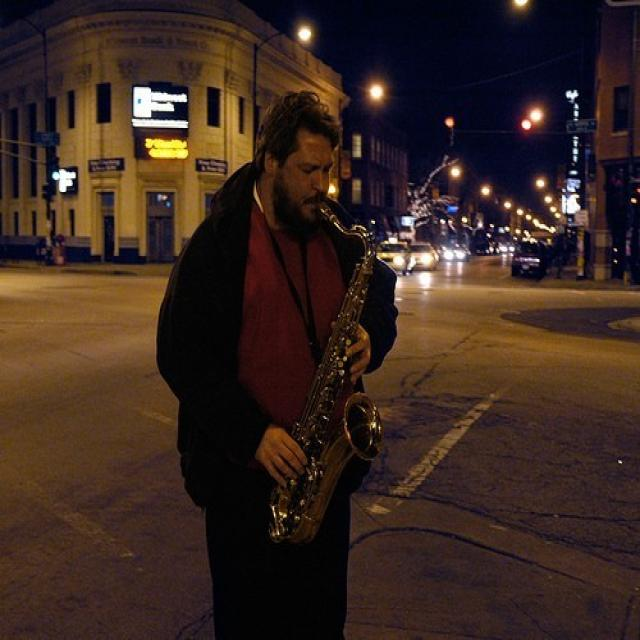saxophone: (258, 199, 390, 548)
